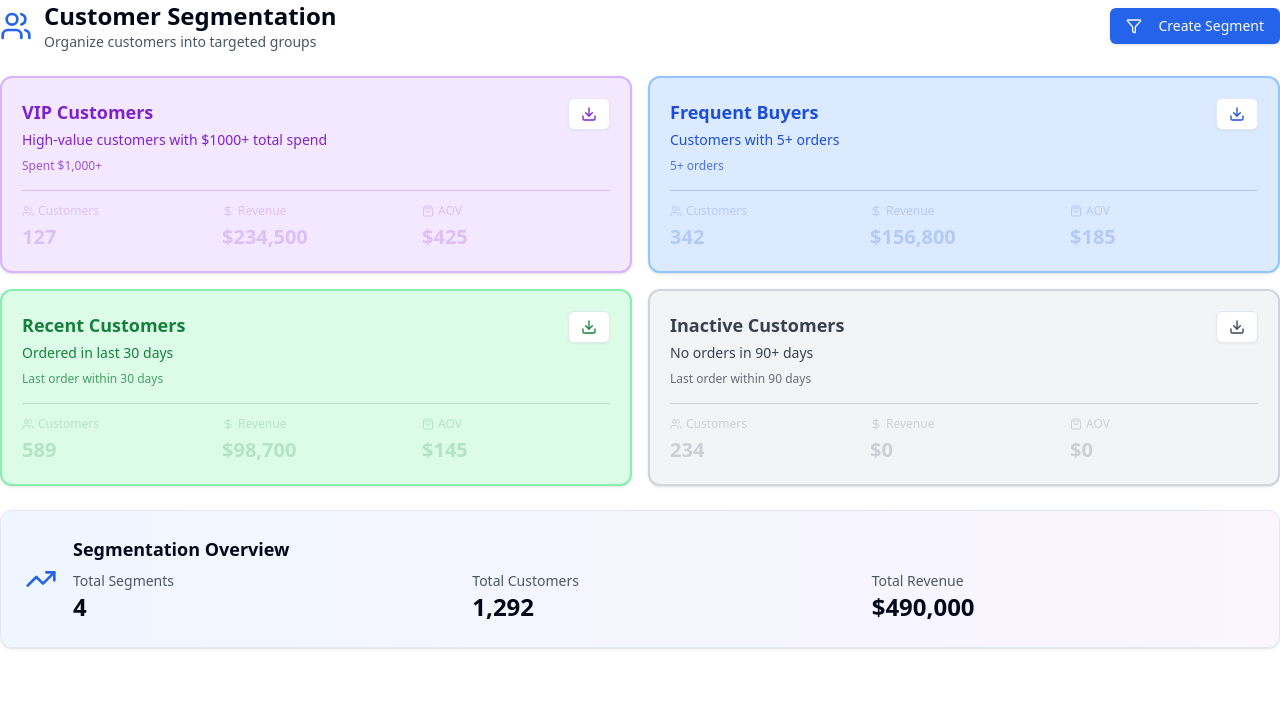
Test case: CustomerSegmentation › closes dialog after creating segment
Click the button with test id "create-segment-btn" at point(1195, 26), box [1110,8,1279,44]
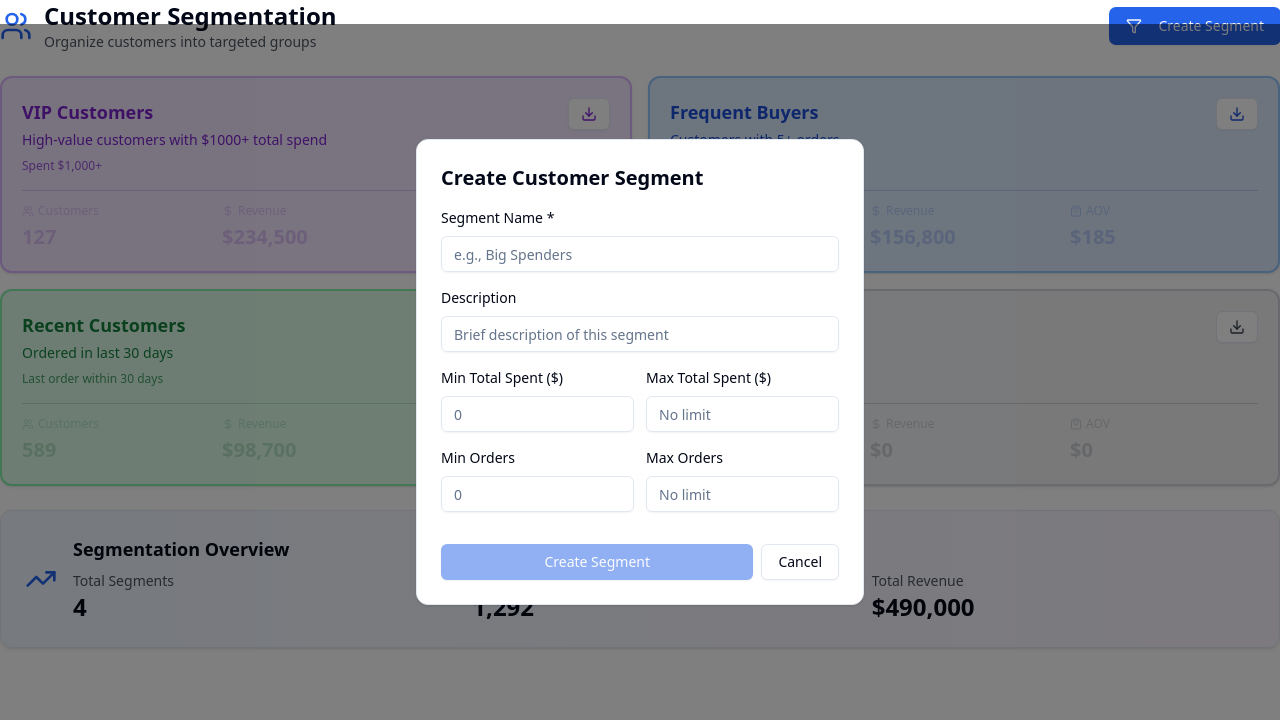
Type "Test Segment" into the field with test id "segment-name" at point(640, 254), box [441,236,839,272]
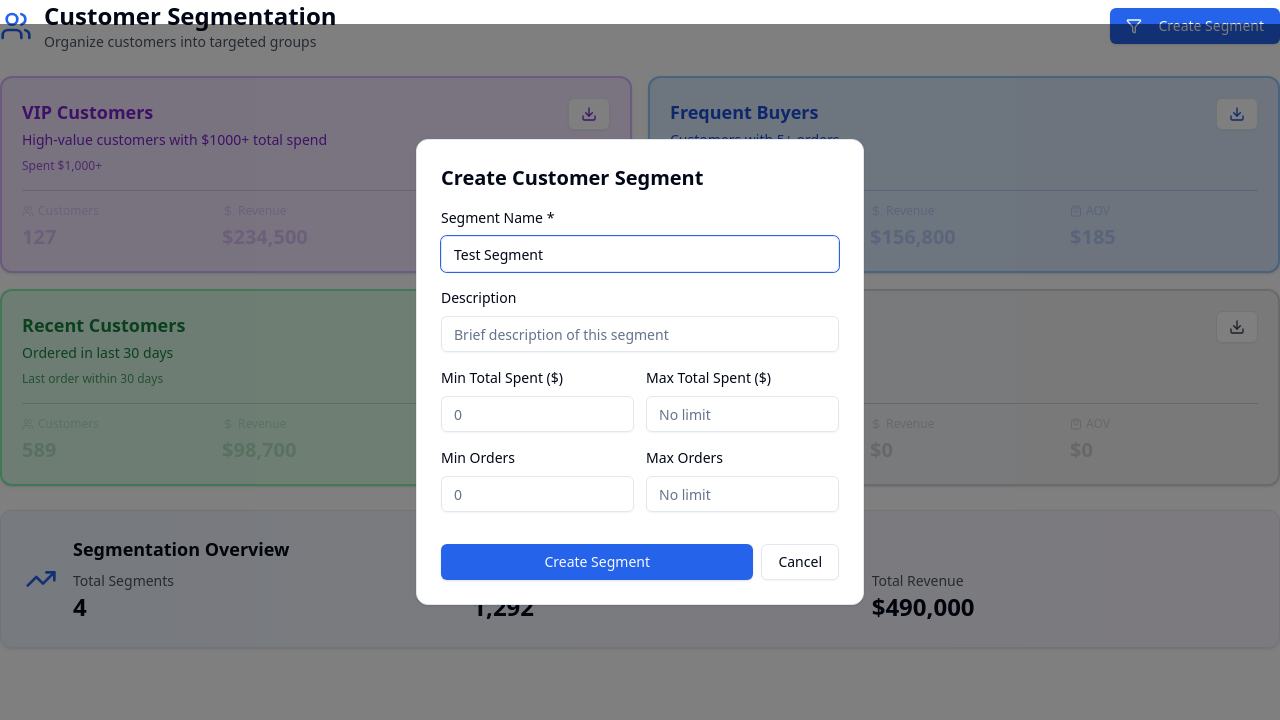
Click the button with test id "save-segment" at point(597, 562), box [441,544,753,580]
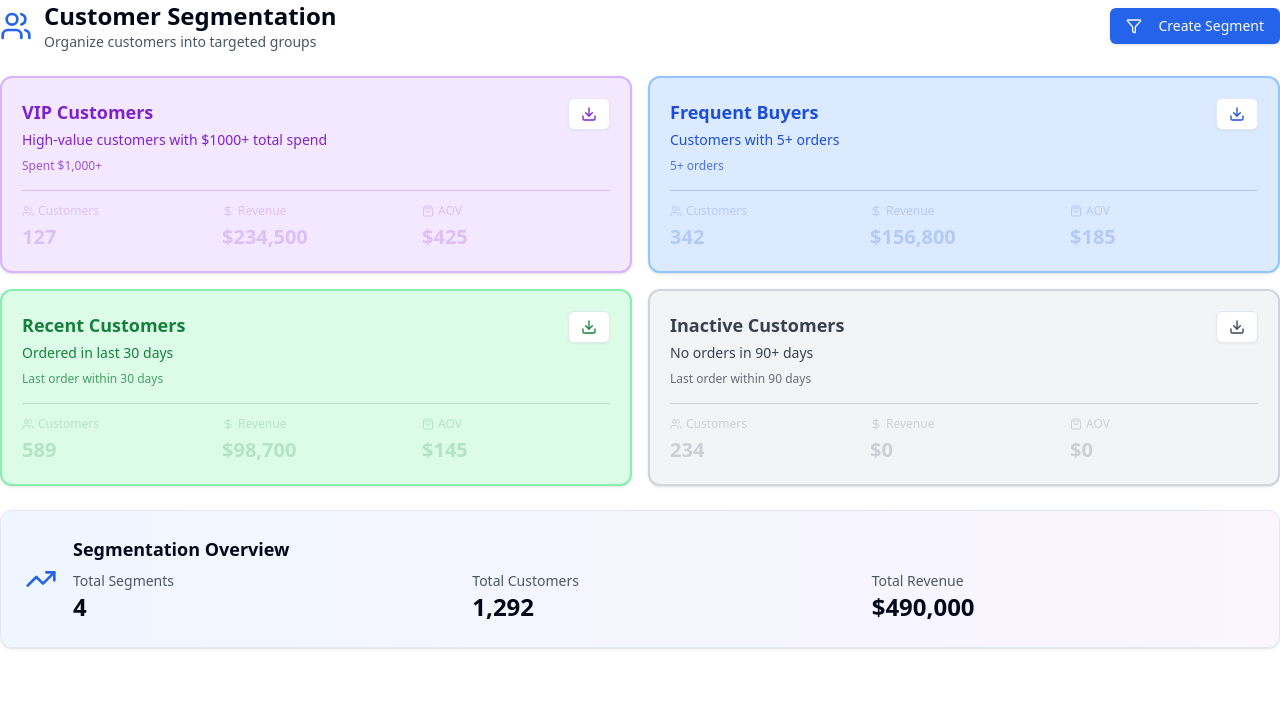
Result: the element with test id "create-segment-dialog" is gone
